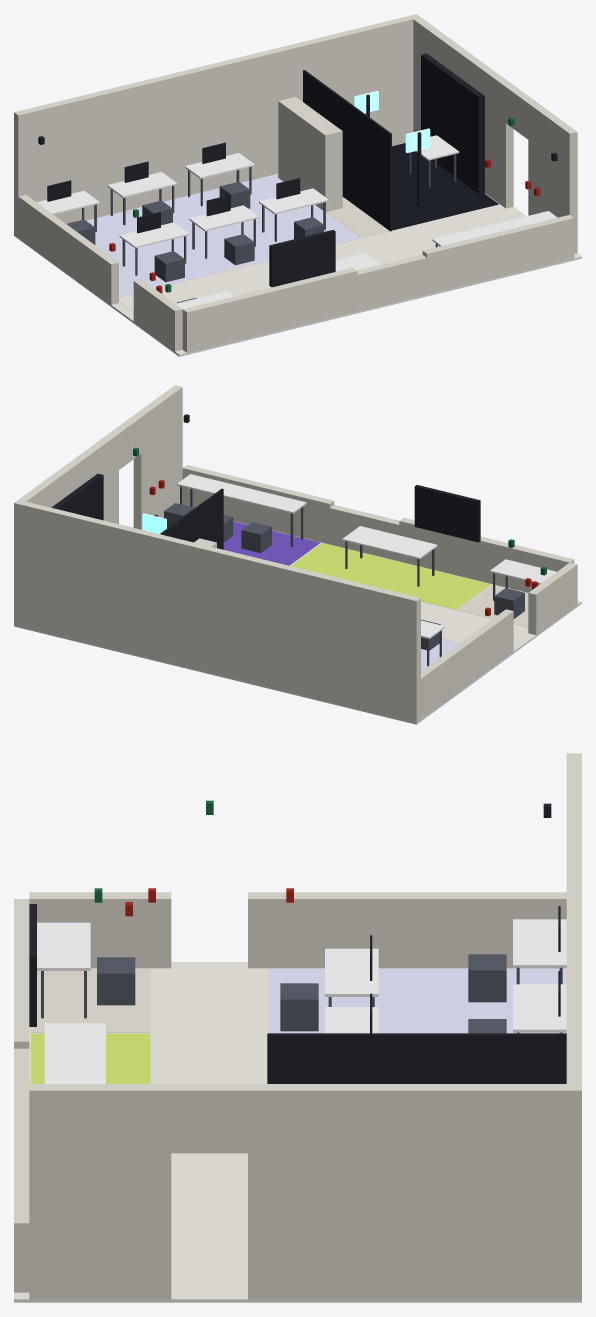
Rendered from lab_blockout.glb.
3 renders of one model, top to bottom at view 1: azimuth 30°, elevation 25°; view 2: azimuth 150°, elevation 25°; view 3: azimuth 270°, elevation 25°, orthographic. The views are drawn at different scales.
Parts seen in each view (by area): view 1: Wall_N0, Zone_CMP, Wall_S0, Wall_S2, Zone_SPN, Wall_E0, C1-WALL, C1-BD, STO-1, Wall_E2, Wall_W0, Zone_C1 (+22 smaller); view 2: Wall_N0, Zone_COL, Wall_E2, Wall_S0, Wall_W0, Wall_S2, Wall_E0, COL-D, Wall_W1, Floor, Wall_S1, C1-WALL (+12 smaller); view 3: Wall_E0, Wall_E2, Zone_SPN, Wall_W0, C1-WALL, Zone_CMP, Wall_W1, Wall_E1, Wall_N0, Zone_FAC, Floor, COL-T_top (+14 smaller).
Boxes of the visible parts, x1,y1,x2,y2 form: Wall_N0: (22, 16, 413, 223); Zone_CMP: (86, 175, 359, 296); Wall_S0: (182, 267, 357, 352); Wall_S2: (422, 215, 574, 294); Zone_SPN: (119, 205, 517, 312); Wall_E0: (413, 17, 513, 208); C1-WALL: (303, 70, 391, 231); C1-BD: (421, 53, 484, 194); STO-1: (278, 97, 342, 211); Wall_E2: (528, 101, 577, 253); Wall_W0: (18, 195, 118, 304); Zone_C1: (392, 143, 498, 230); Wall_N0: (21, 501, 412, 720); Zone_COL: (291, 543, 490, 609); Wall_E2: (133, 385, 182, 529); Wall_S0: (399, 518, 574, 592); Wall_W0: (421, 609, 513, 719); Wall_S2: (182, 465, 334, 544); Wall_E0: (19, 432, 118, 523); COL-D: (414, 485, 480, 542); Wall_W1: (528, 562, 577, 634); Floor: (14, 521, 581, 724); Wall_S1: (329, 505, 399, 561); C1-WALL: (160, 488, 223, 549); Wall_E0: (248, 1084, 566, 1299); Wall_E2: (29, 1084, 171, 1299); Zone_SPN: (153, 968, 265, 1291); Wall_W0: (248, 892, 566, 968); C1-WALL: (267, 1033, 566, 1083); Zone_CMP: (268, 968, 564, 1033); Wall_W1: (29, 892, 171, 968); Wall_E1: (171, 1084, 247, 1153); Wall_N0: (566, 759, 581, 1083); Zone_FAC: (31, 968, 150, 1032); Floor: (14, 962, 581, 1302); COL-T_top: (44, 1023, 105, 1083).
Bounding box in the file's own units: 10.4 × 3.05 × 7.4.
